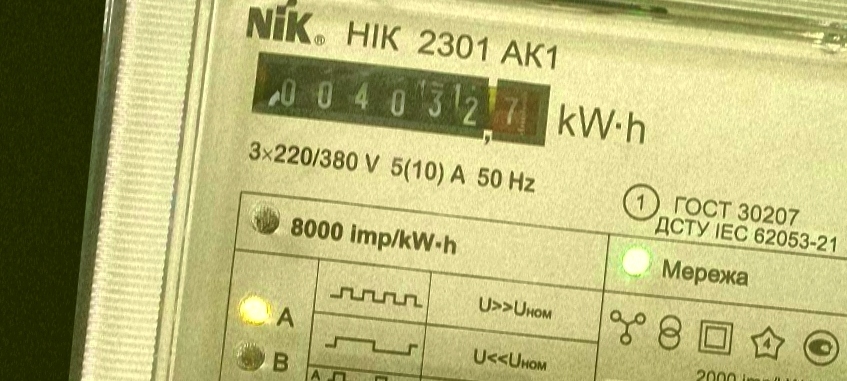0: (314, 77, 337, 112), (278, 74, 300, 108), (387, 85, 409, 119)
2: (461, 93, 482, 128)
3: (425, 86, 447, 120)
4: (351, 78, 374, 116)
7: (502, 94, 522, 128)
screen: (241, 42, 562, 160)
